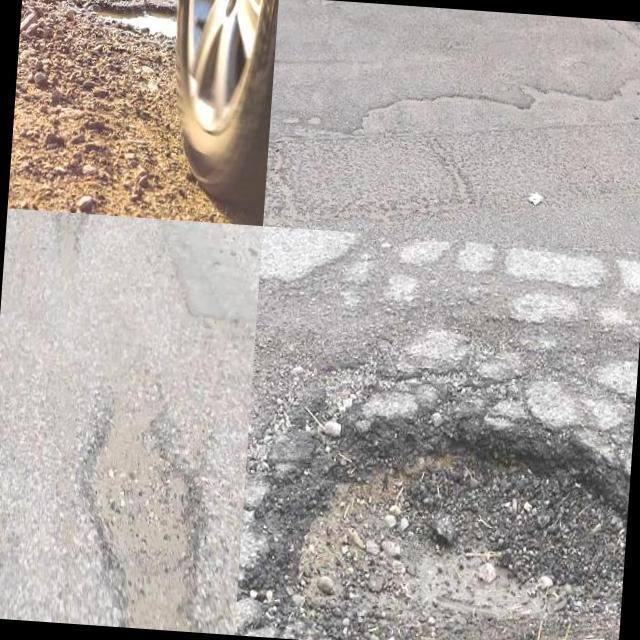Pothole: (243, 407, 630, 640), (78, 385, 205, 633), (87, 3, 177, 37), (56, 211, 89, 262)
